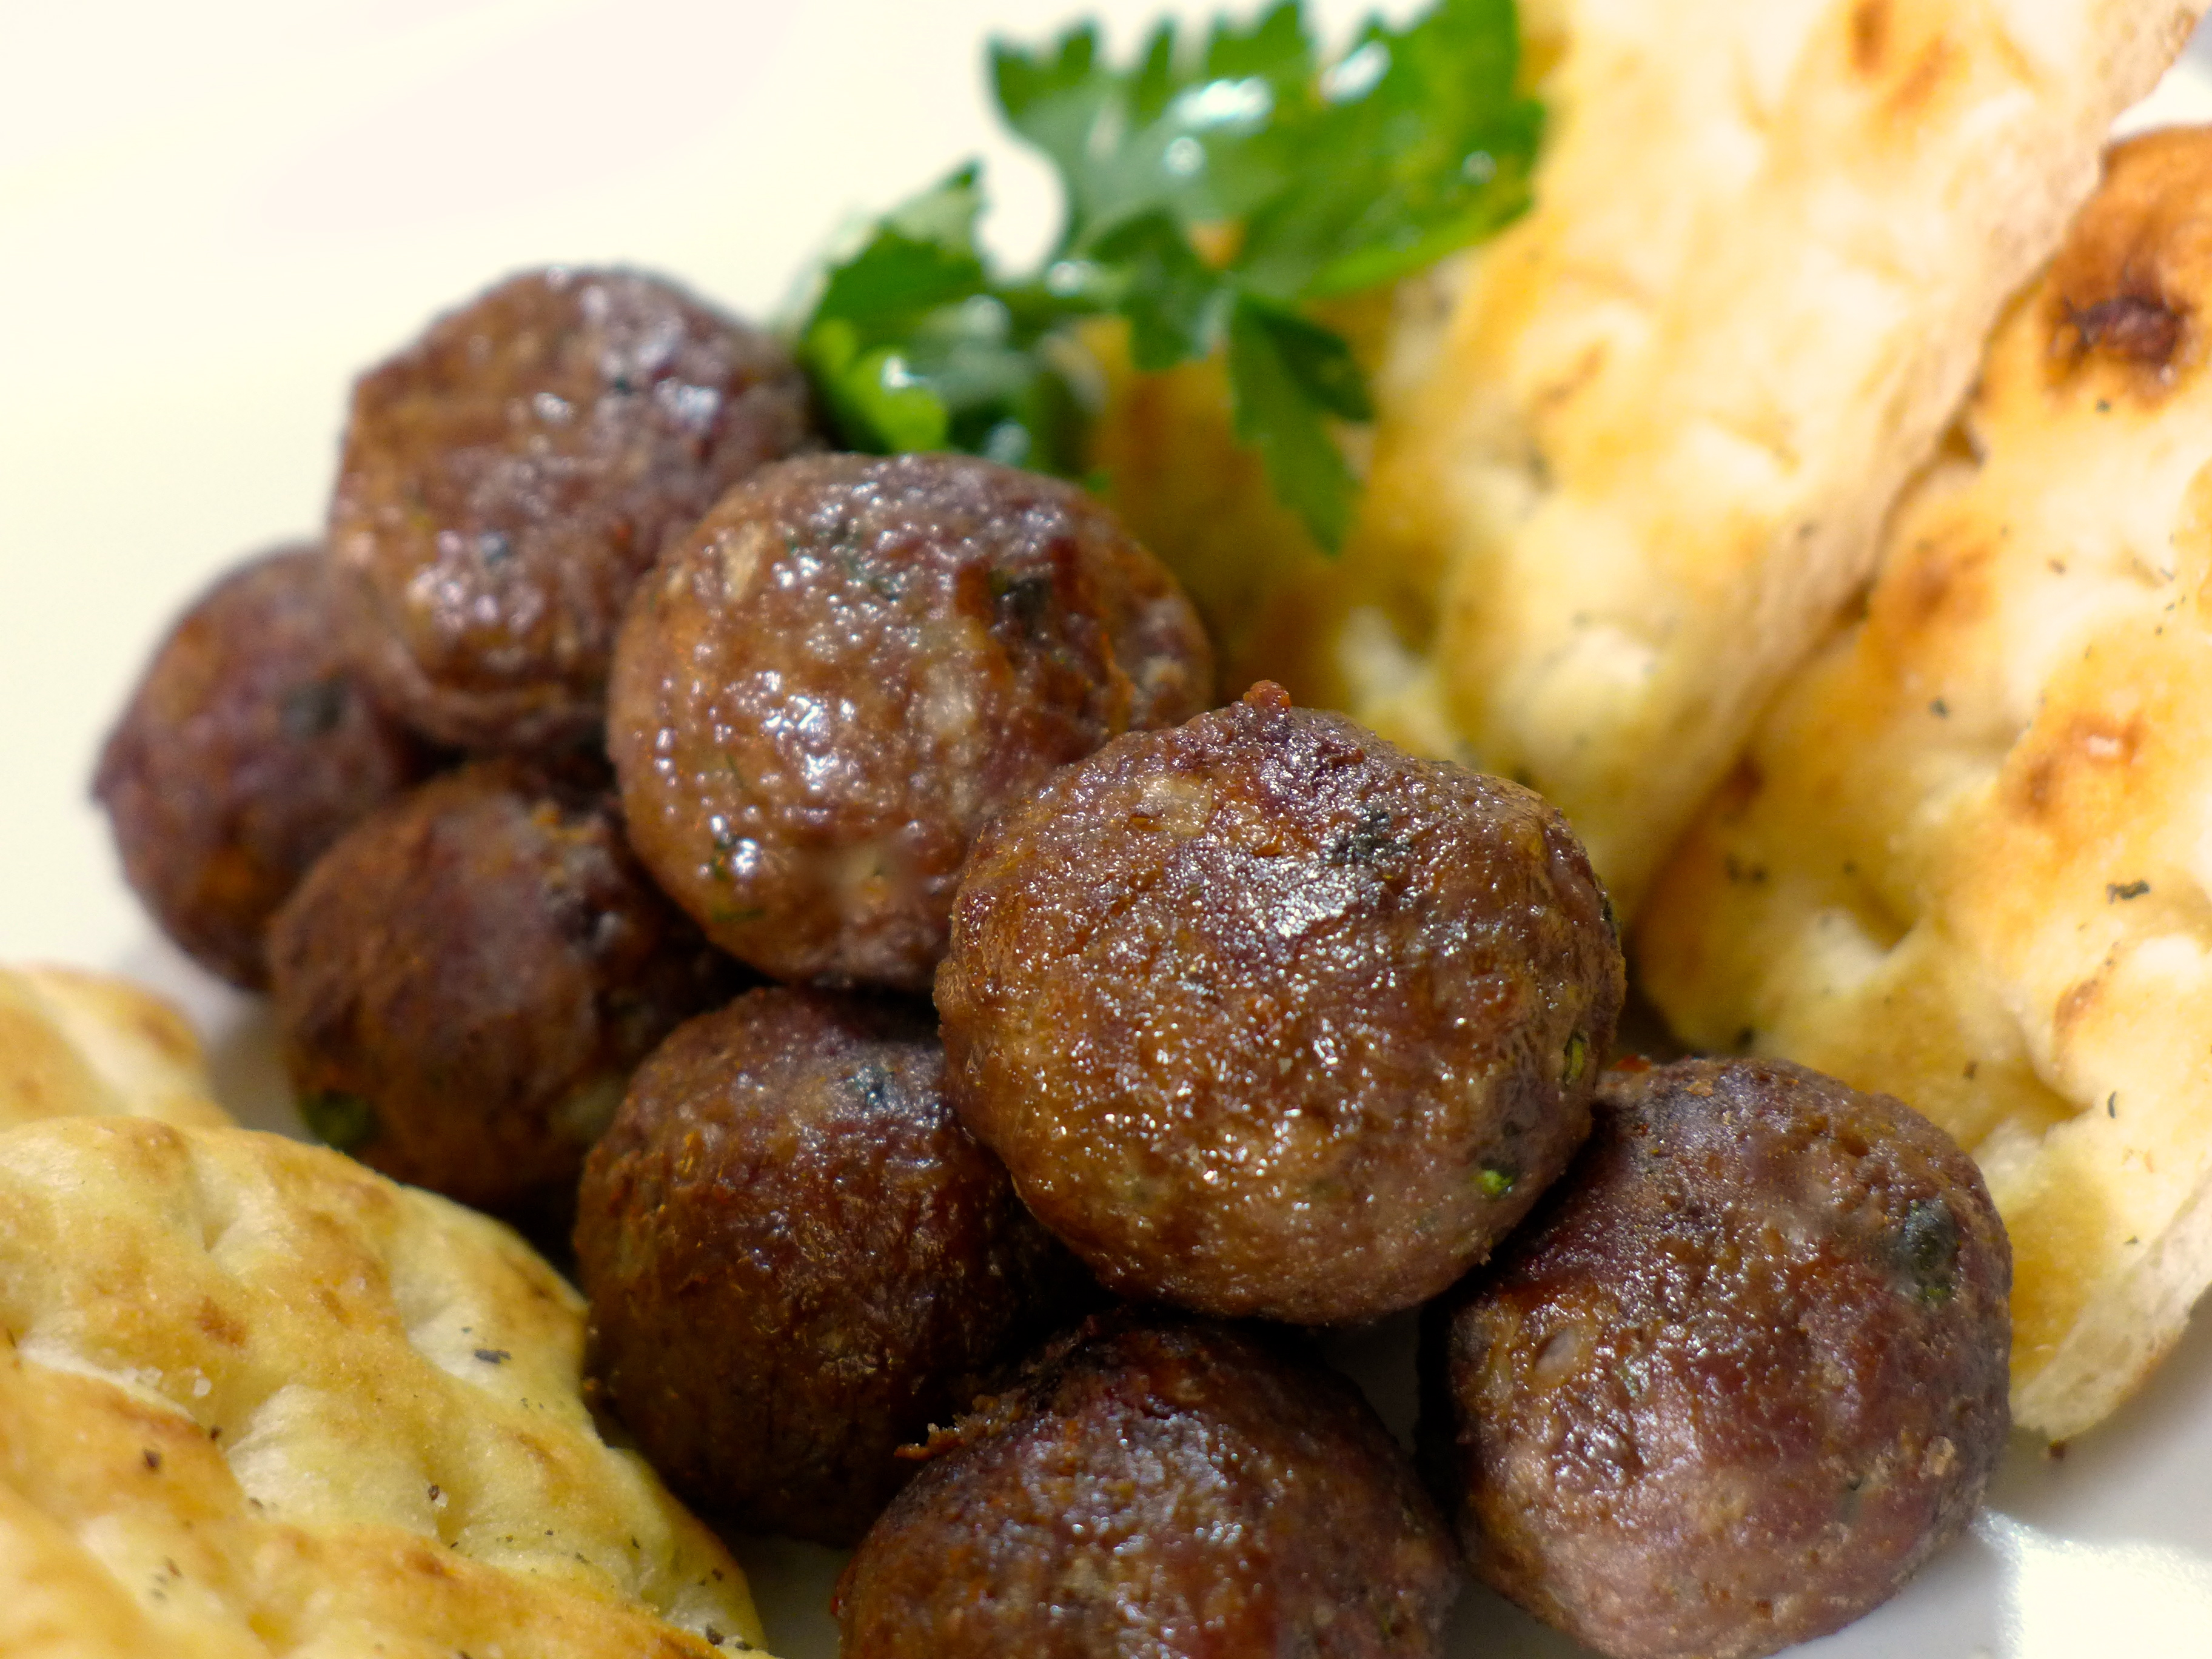meatballs: (329, 411, 2010, 1588)
